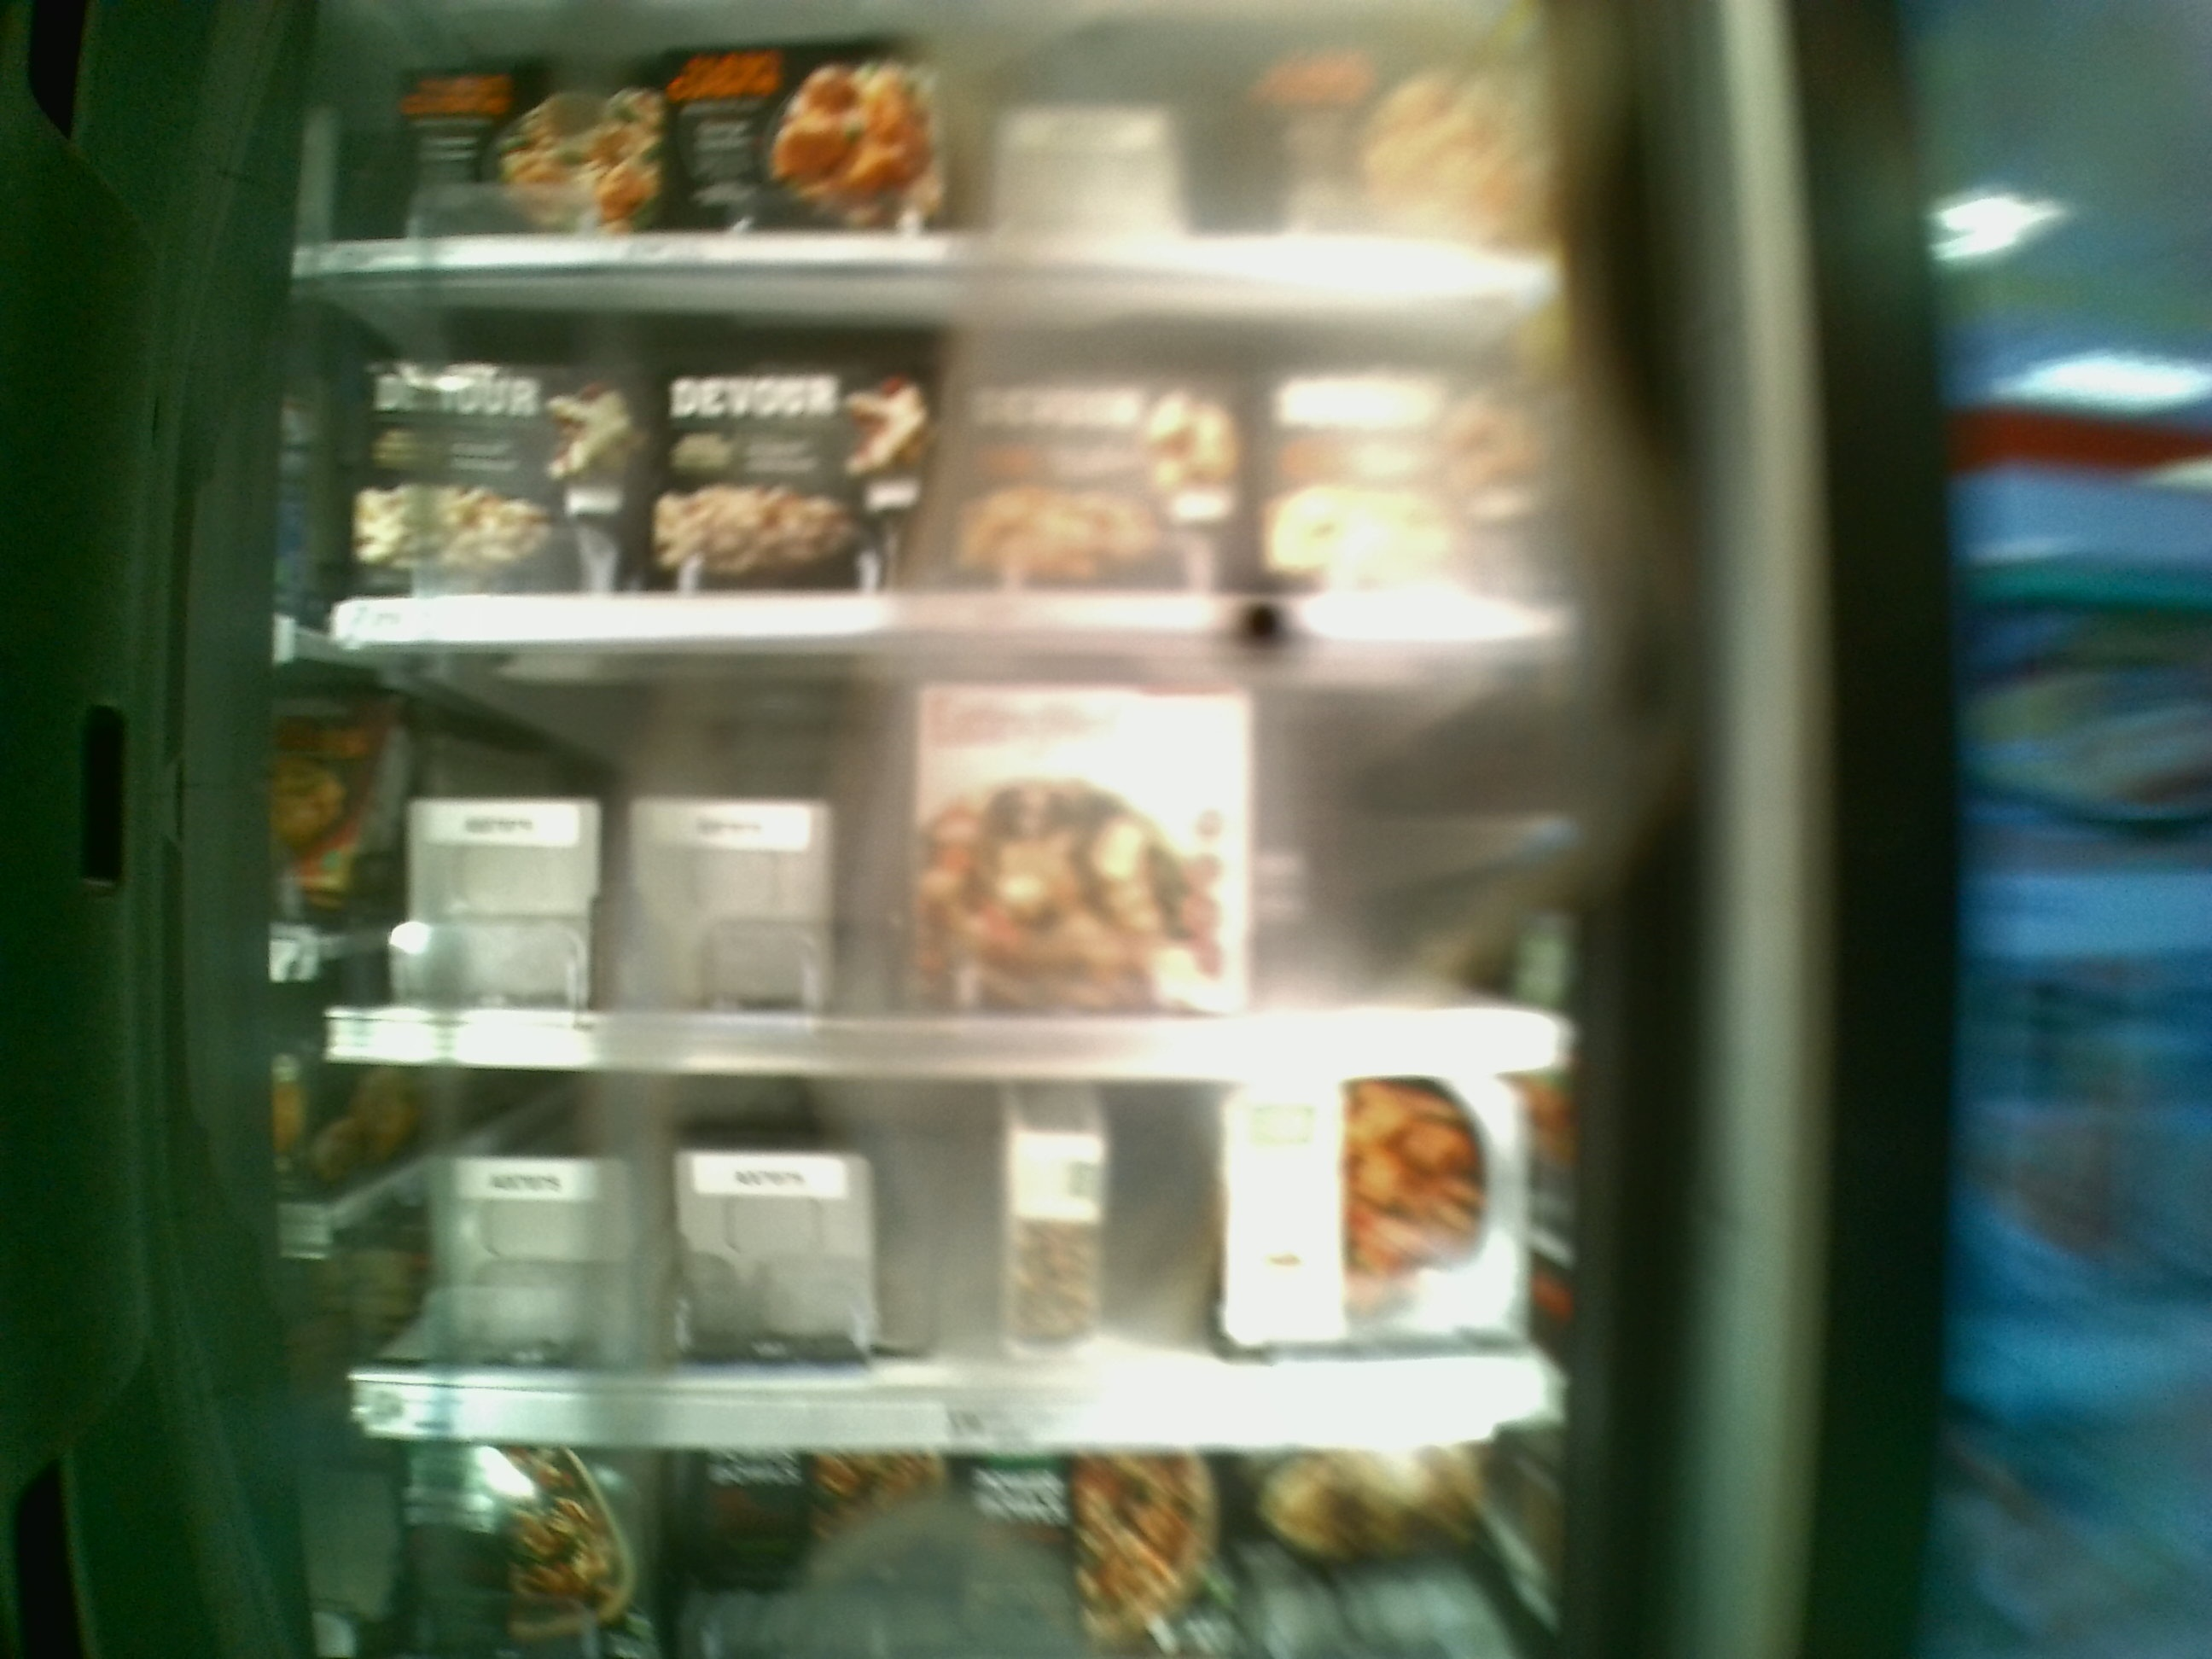Shelf: (326, 638, 1581, 1075), (329, 1060, 1590, 1452)
